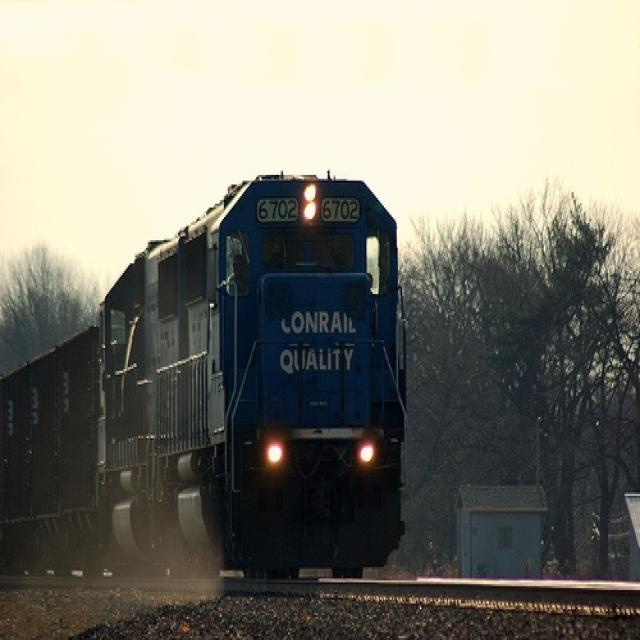train: (0, 169, 408, 582)
